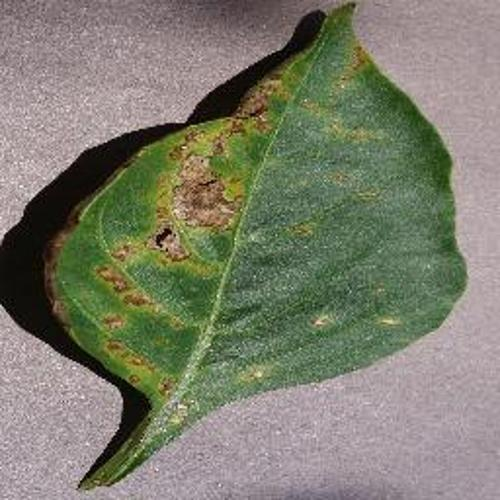Pepper: (43, 2, 468, 484)
